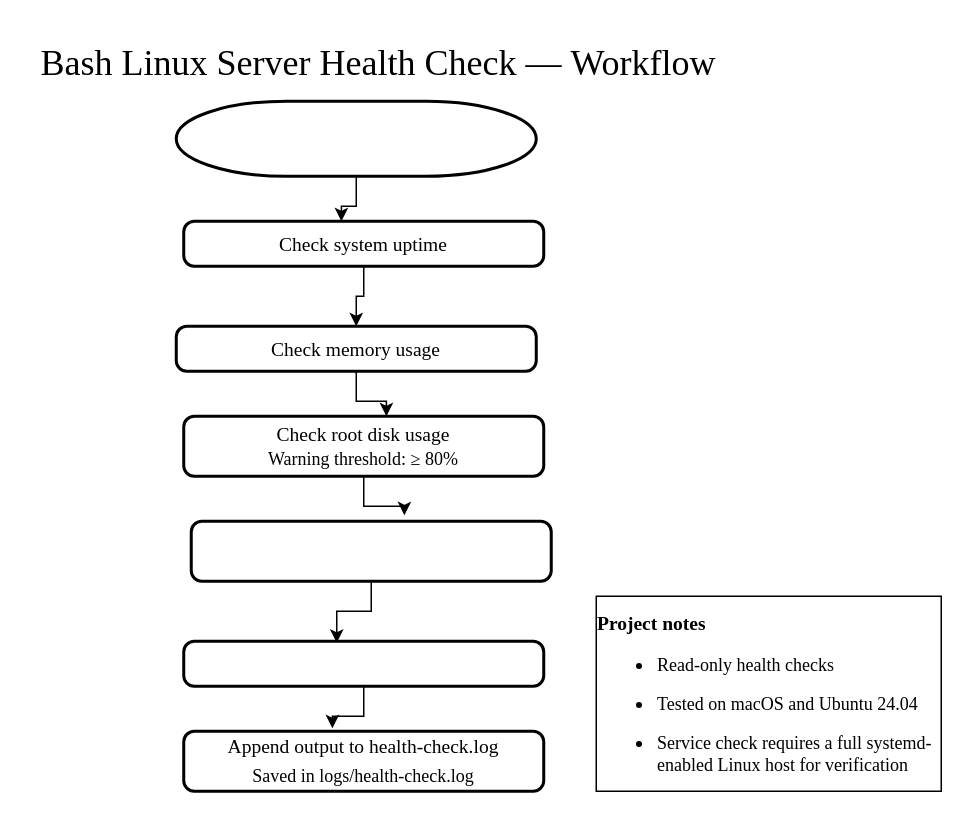
Some shapes in this 968 by 819 pixel diagram are drawn without their labels. Each missing label, with the centre of its shape:
"Check service status Uses systemctl when available" belongs at (x=370, y=550).
"Display results in terminal" belongs at (x=363, y=663).
"Start: Run health-check.sh" belongs at (x=355, y=138).
